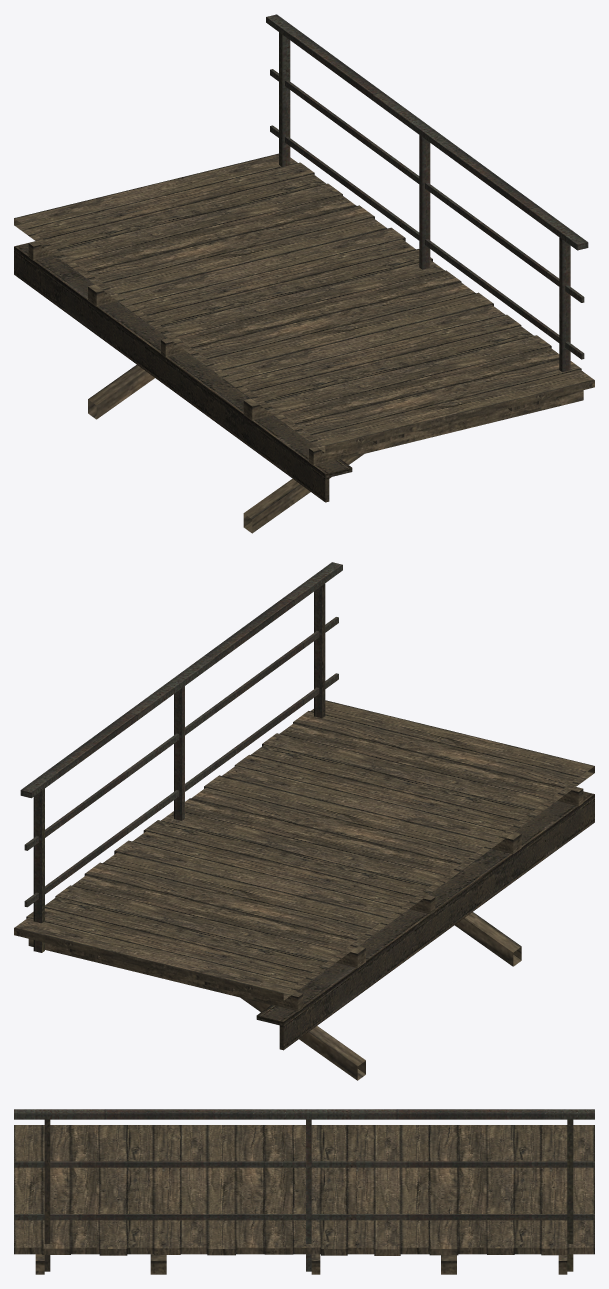
Rendered from platform_ax_2.dae.
3 renders of one model, top to bottom at view 1: azimuth 30°, elevation 25°; view 2: azimuth 150°, elevation 25°; view 3: azimuth 270°, elevation 25°, orthographic. The views are drawn at different scales.
Visible parts, largest first — view 1: platform_ax_2; view 2: platform_ax_2; view 3: platform_ax_2.
Part boxes in pixels (<box>): platform_ax_2: <box>14,14,594,533</box>; platform_ax_2: <box>14,562,594,1080</box>; platform_ax_2: <box>14,1109,594,1274</box>.
Size of the model in its own units: 2.03 by 4 by 1.99.
2 materials, 2 textured.
